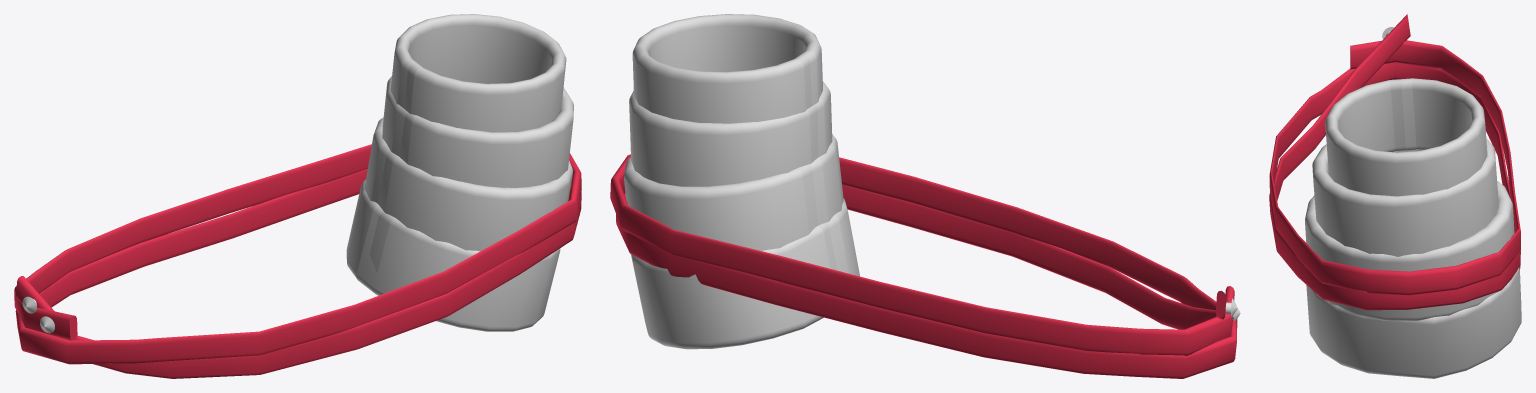
File: carotid_tourniquet.fbx
3 renders of one model, left to right at view 1: azimuth 30°, elevation 25°; view 2: azimuth 150°, elevation 25°; view 3: azimuth 270°, elevation 25°, orthographic. The views are drawn at different scales.
Parts seen in each view (by area): view 1: жгут шеяя; view 2: жгут шеяя; view 3: жгут шеяя.
Part boxes in pixels (x1,y1,x2,y2): жгут шеяя: (14,14,581,378); жгут шеяя: (610,14,1237,378); жгут шеяя: (1269,14,1521,378).
Bounding box in the file's own units: 35.47 × 15.97 × 14.74.
